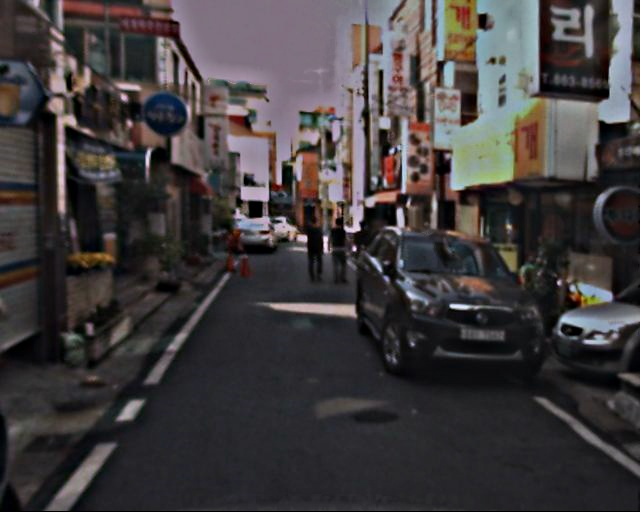person: (324, 215, 353, 285), (299, 213, 327, 282), (349, 221, 374, 282)
